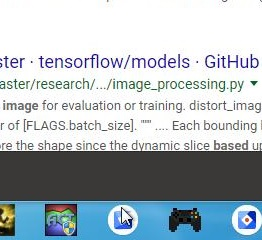cursor: (119, 205, 133, 227)
